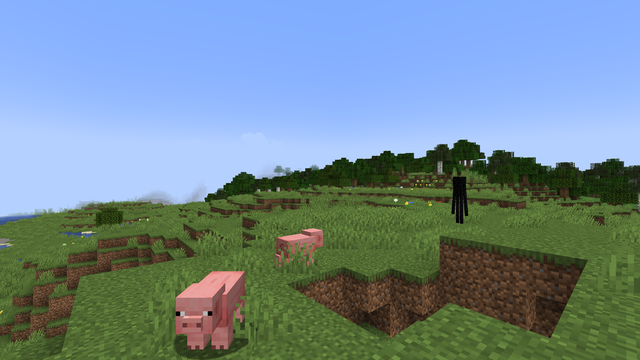cochons: (183, 267, 254, 357), (275, 231, 316, 272)
endermens: (452, 175, 466, 224)
